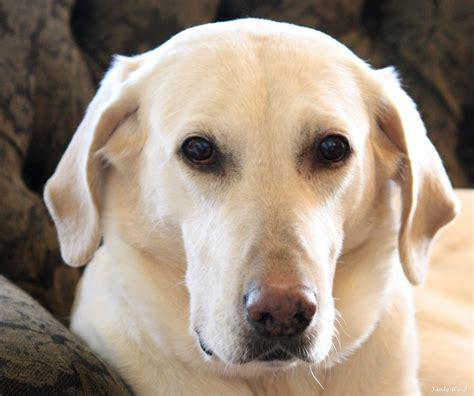dog: (45, 19, 474, 396)
